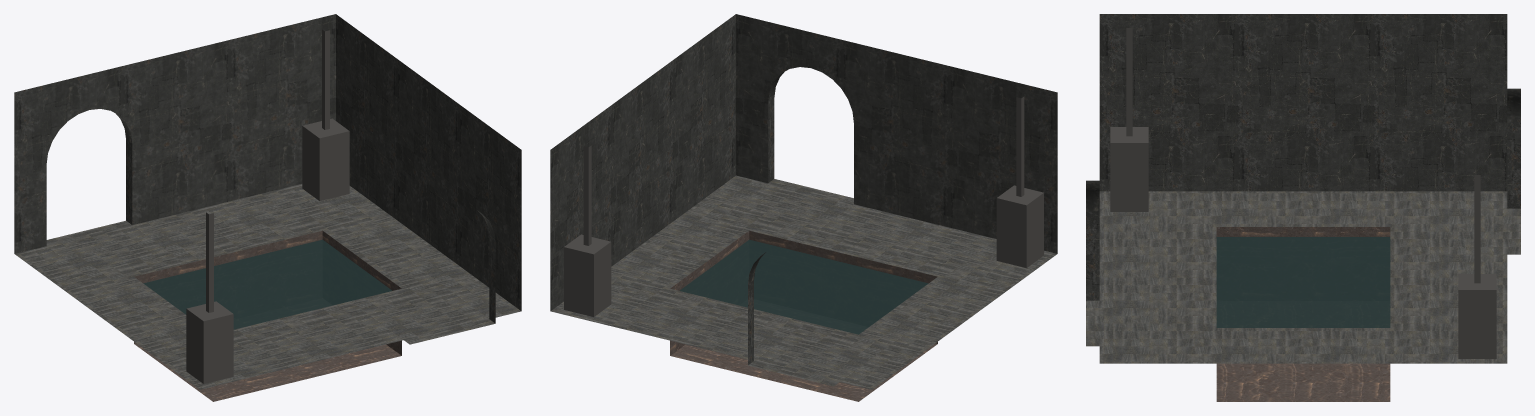
File: pump-room.9f1ca822.gltf
The picture shows the model from 3 angles, left to right: view 1: azimuth 30°, elevation 25°; view 2: azimuth 150°, elevation 25°; view 3: azimuth 270°, elevation 25°; orthographic projection. The views are drawn at different scales.
Parts seen in each view (by area): view 1: pump-room-mesh, pump-room-props; view 2: pump-room-mesh, pump-room-props; view 3: pump-room-mesh, pump-room-props.
Boxes of the visible parts, left/top/right/bottom form: pump-room-mesh: left=14, top=14, right=521, bottom=401; pump-room-props: left=143, top=29, right=392, bottom=383; pump-room-mesh: left=550, top=14, right=1057, bottom=401; pump-room-props: left=564, top=96, right=1043, bottom=334; pump-room-mesh: left=1086, top=14, right=1520, bottom=401; pump-room-props: left=1110, top=28, right=1496, bottom=358.
Size of the model in its own units: 7.5 by 5.1 by 8.
Materials: 5 (3 with a texture image).
